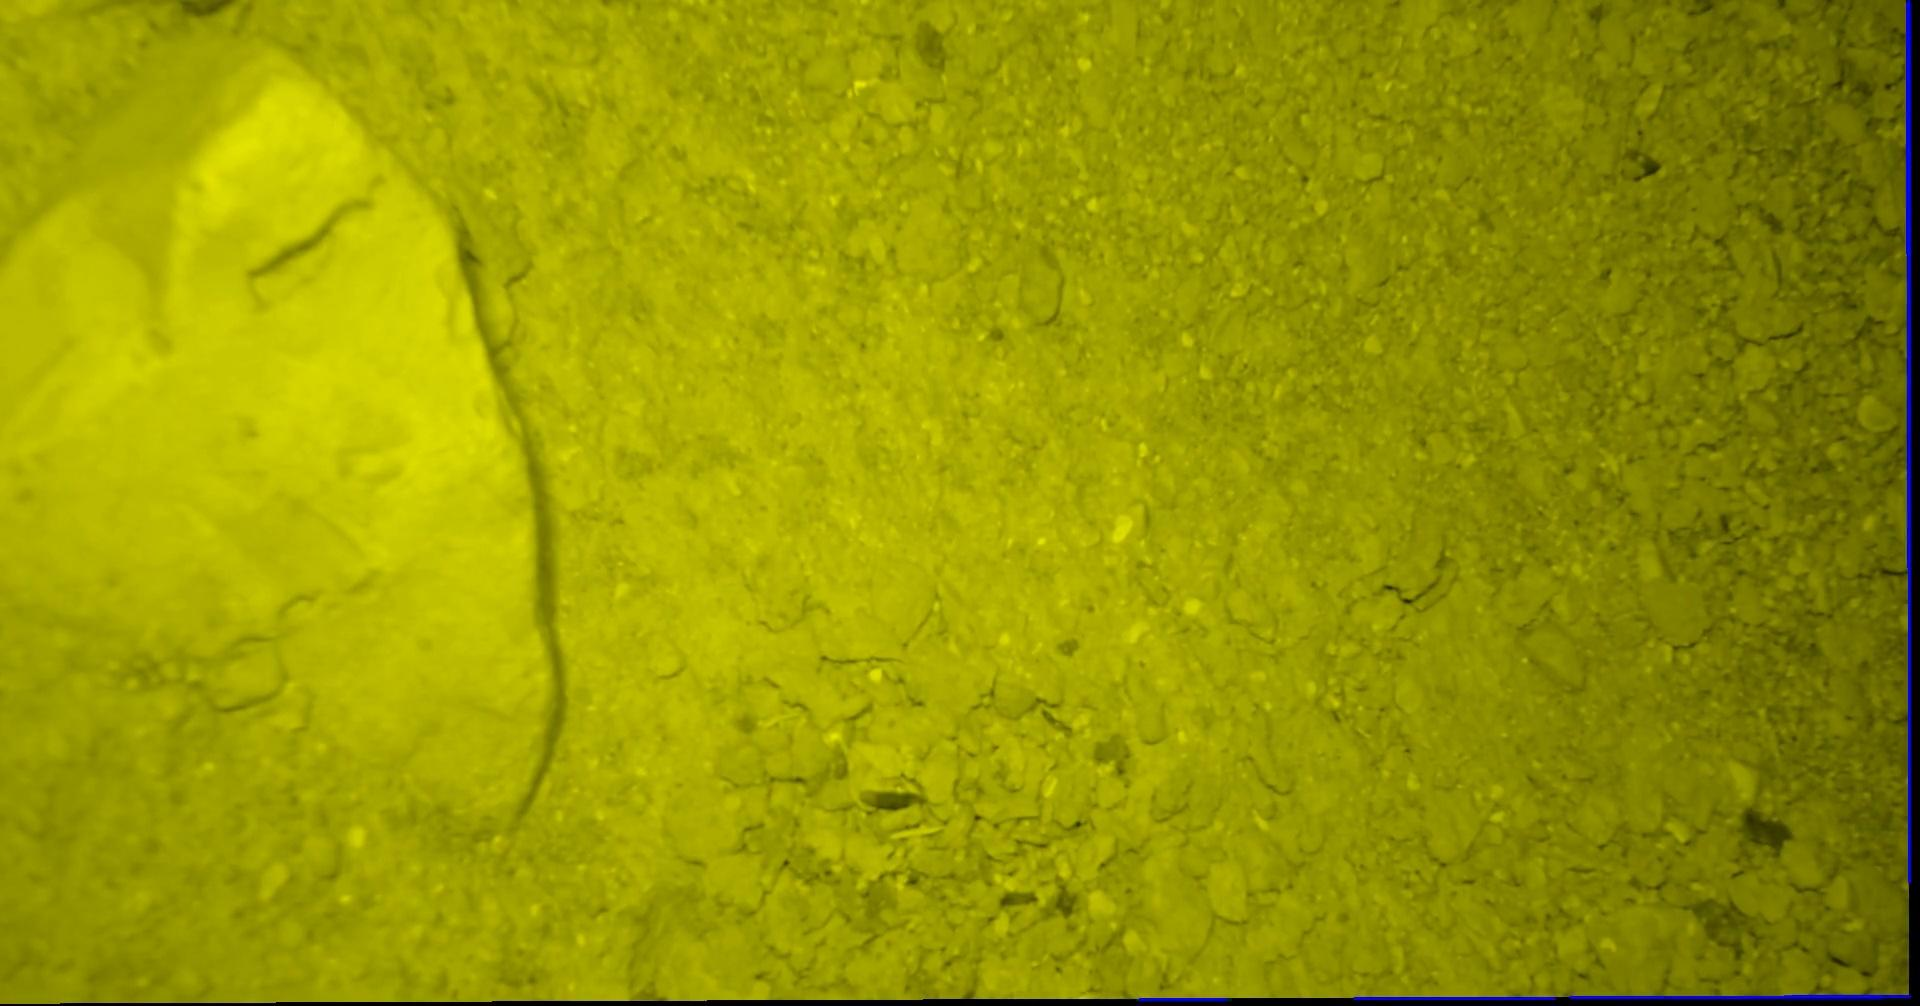ant: (1351, 995, 1556, 1000), (1137, 997, 1229, 1002)
